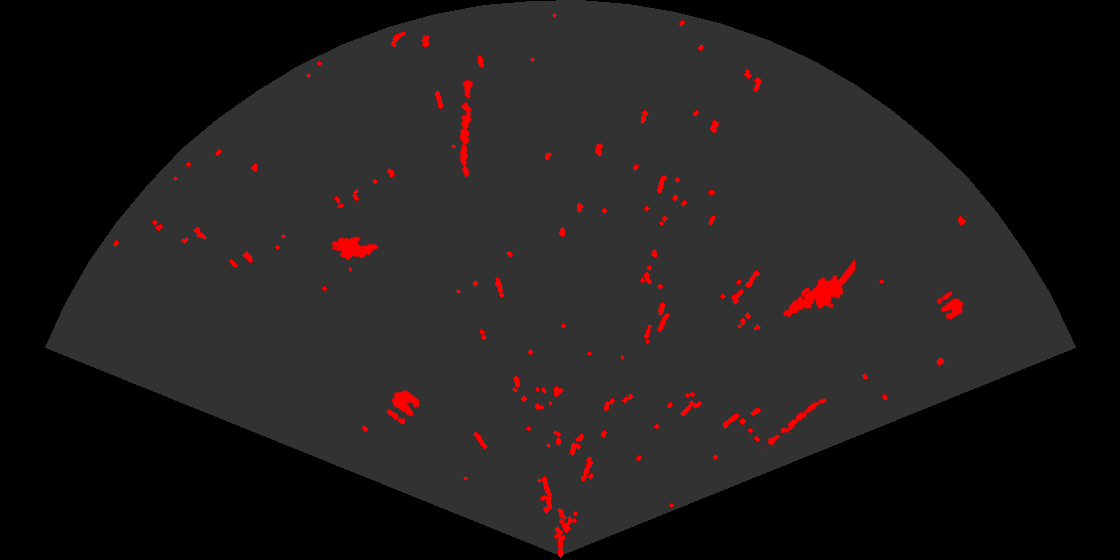AUV: (330, 235, 380, 261)
ball: (385, 389, 421, 426), (935, 290, 965, 321)
chain: (758, 397, 828, 451), (458, 77, 474, 179)
frogman: (782, 259, 855, 319)
